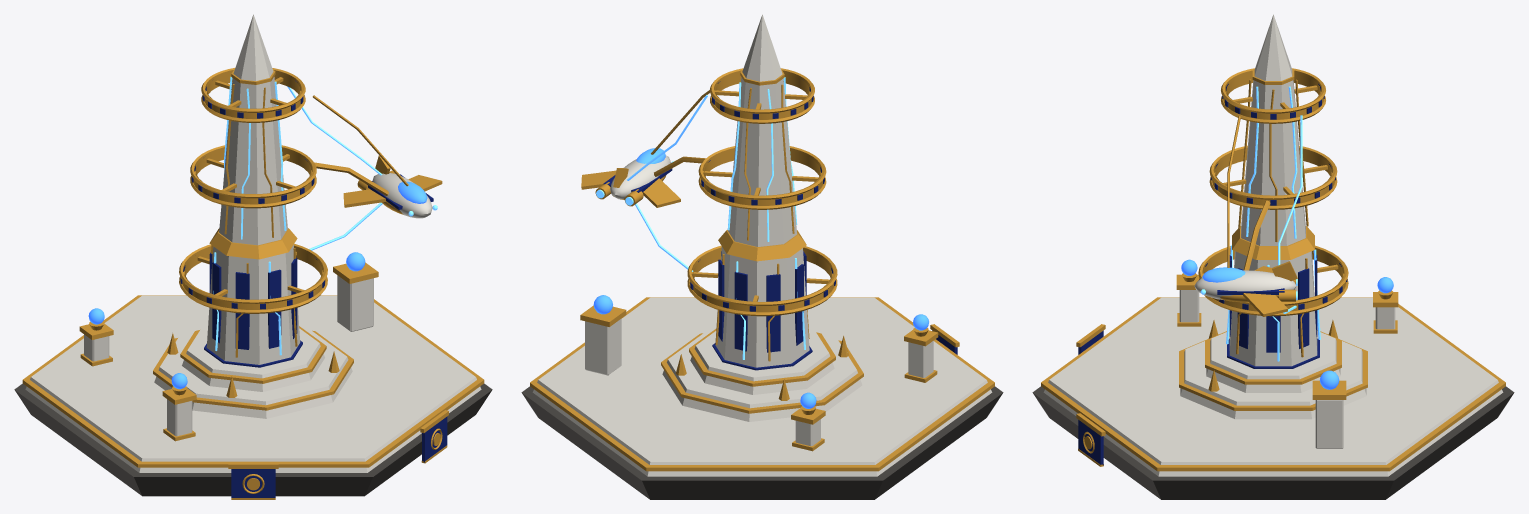
The model's file is zeus_zephyr_mooring_mast.glb.
The picture shows the model from 3 angles, left to right: view 1: azimuth 30°, elevation 25°; view 2: azimuth 150°, elevation 25°; view 3: azimuth 270°, elevation 25°; orthographic projection.
Visible parts, largest first — view 1: zeus_zephyr_mooring_mast; view 2: zeus_zephyr_mooring_mast; view 3: zeus_zephyr_mooring_mast.
Boxes of the visible parts, x1,y1,x2,y2 form: zeus_zephyr_mooring_mast: [14, 14, 492, 499]; zeus_zephyr_mooring_mast: [521, 14, 1003, 499]; zeus_zephyr_mooring_mast: [1032, 14, 1514, 499].
Bounding box in the file's own units: 1.51 × 1.59 × 1.72.
Materials: 1 (1 with a texture image).
